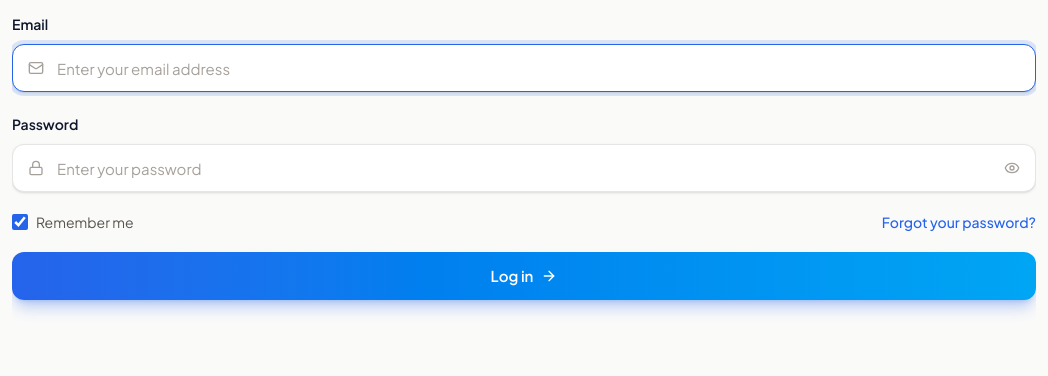
Test case: LoginForm › clears a field error when the user types
The image size is (1048, 376).
Click the button "Log in": (524,276) [12, 252, 1036, 300]
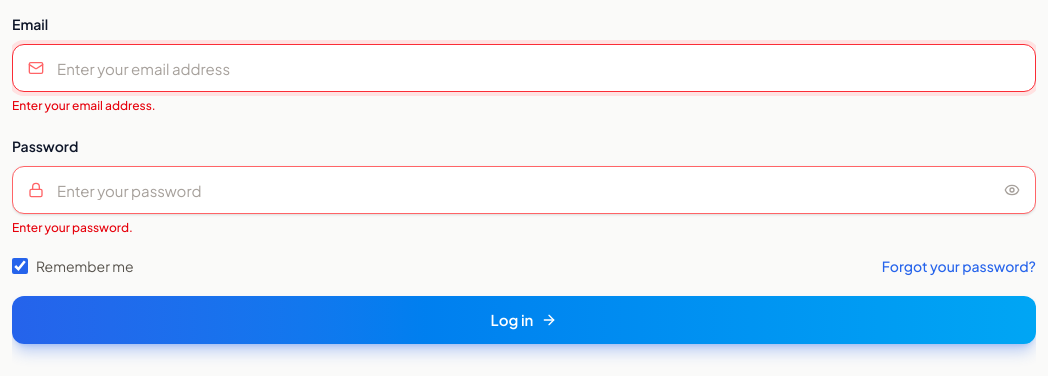
In the field labelled "Email": (524,68) [12, 44, 1036, 92], type "a"
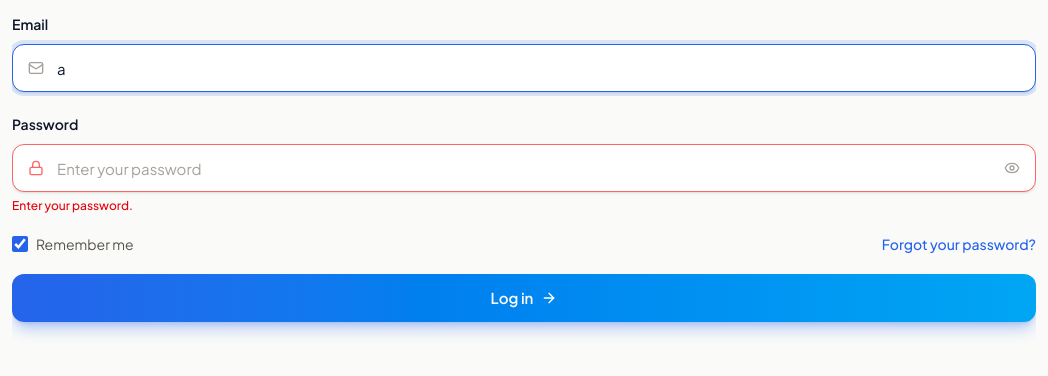
Expected: the text "Enter your email address." is gone
